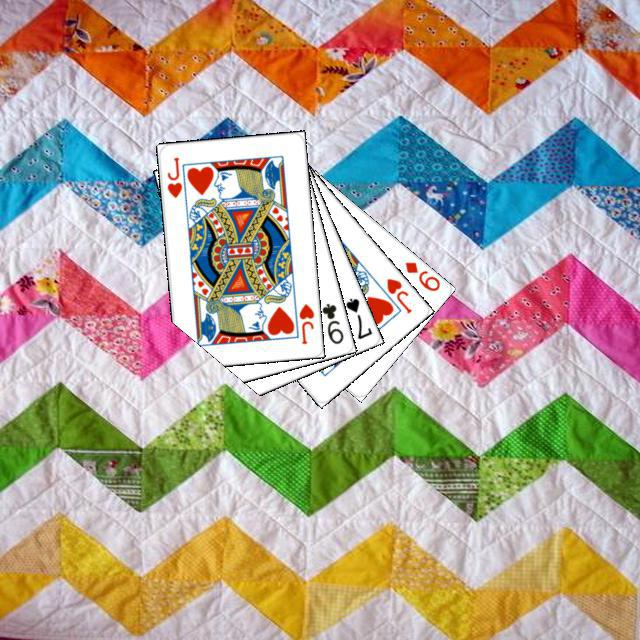7s: (341, 293, 374, 341)
9c: (317, 298, 345, 346)
9d: (400, 257, 442, 293)
Jh: (381, 273, 414, 315), (294, 298, 316, 346), (162, 152, 184, 199)
